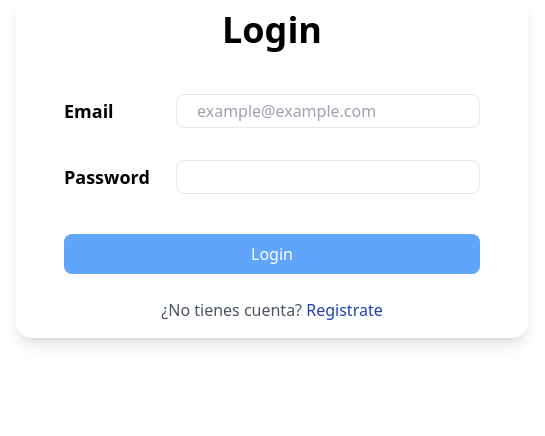
Test: <Login> component › Clicking the login button and show all the fields validations
Click the button "Login". click: [272, 254]
box: [64,234,480,274]
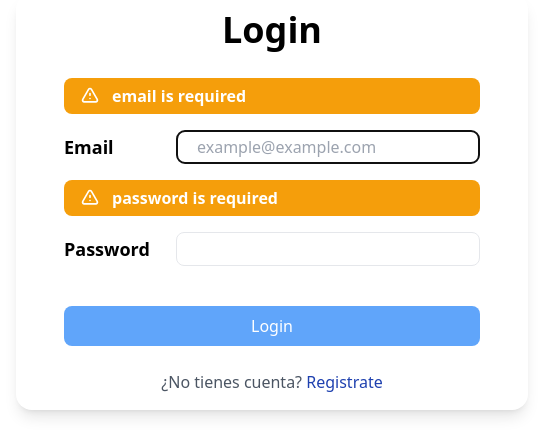
Check: the text "email is required" is shown, box [100,86,246,106]
Check: the text "password is required" is shown, box [100,188,278,208]
